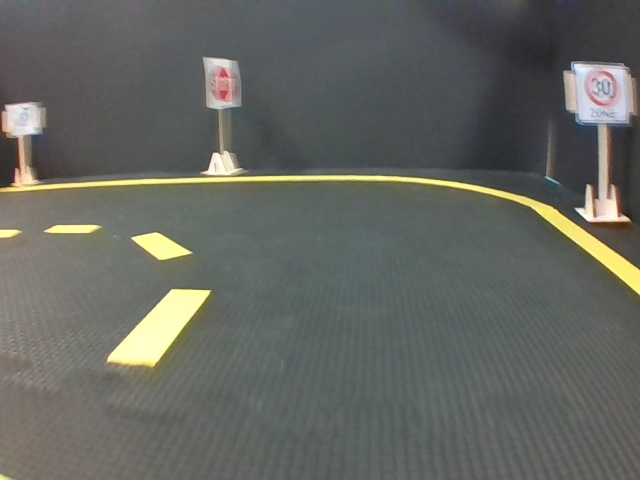30: (575, 63, 627, 123)
no30: (7, 104, 36, 133)
stop: (205, 57, 236, 106)
